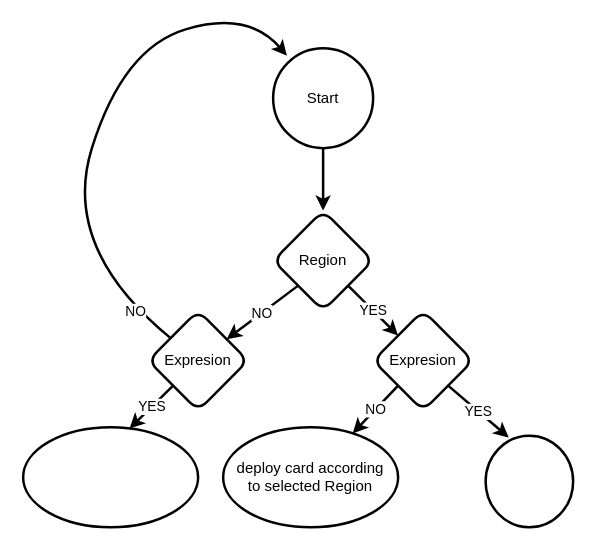
Some shapes in this 595 by 550 pixel diagram are drawn without their labels. The centre of each missing label's shape, as x and y in pixels:
combined search: (x=529, y=481)
deploy card according to selected Expresion: (x=110, y=476)
